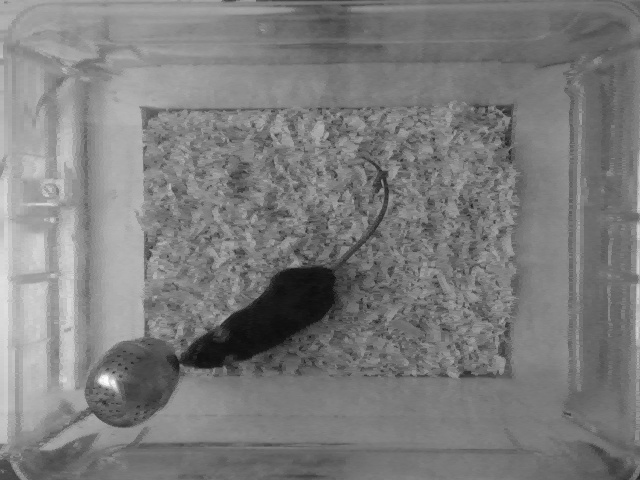mice: (175, 158, 389, 372)
